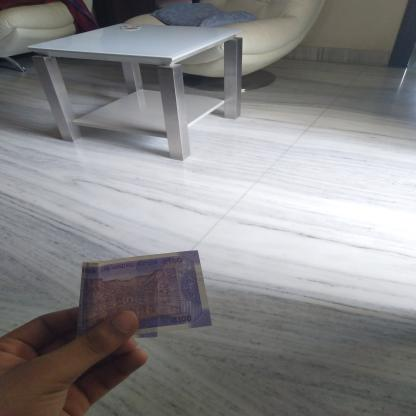New100Back: (80, 254, 210, 335)
